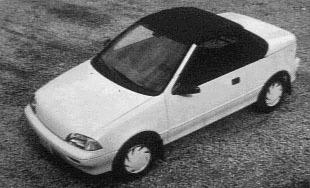car: (25, 8, 302, 178)
